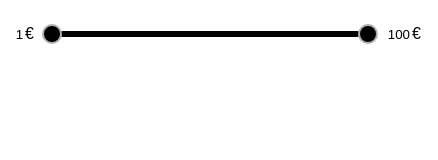
Test case: Given a FlexibleRange component max input › When initial value is 1 and max is 100 › And the user introduces a number bigger than the max value in the max input › Then should put 100 as the input value
Replace the text in the field with test id "input-max" with "999999" at (395, 34), box [380, 16, 410, 52]
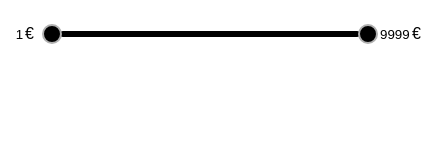
Leave the field with test id "input-max", box [380, 16, 410, 52]
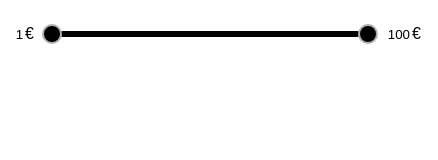
Expected: the field with test id "input-max" holds "100", [380, 16, 410, 52]
